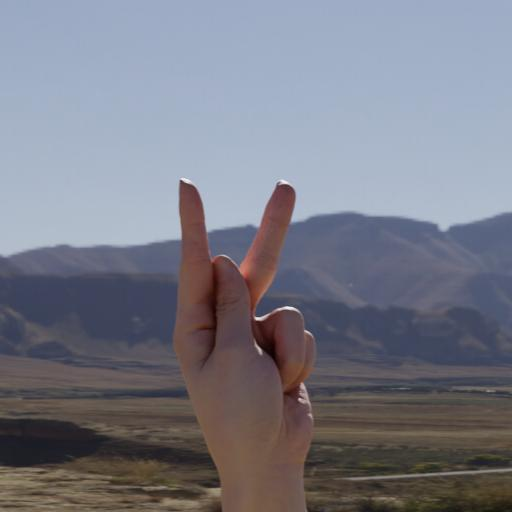K: (162, 163, 338, 471)
